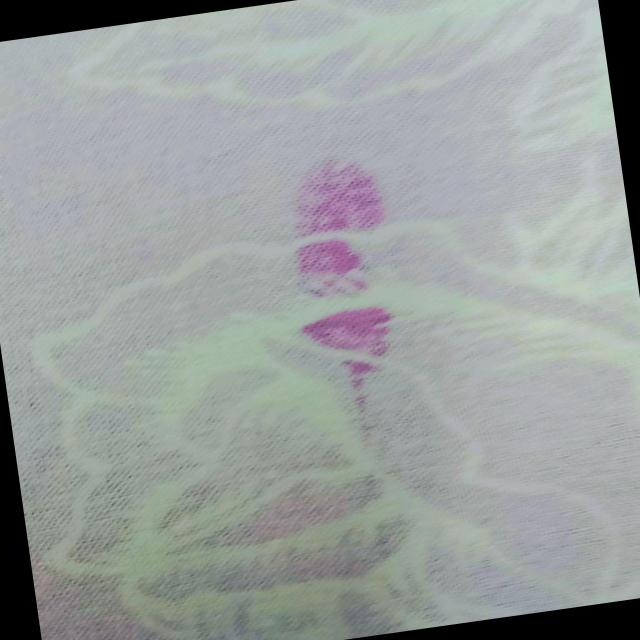stain: (262, 138, 424, 459), (153, 632, 202, 640)
